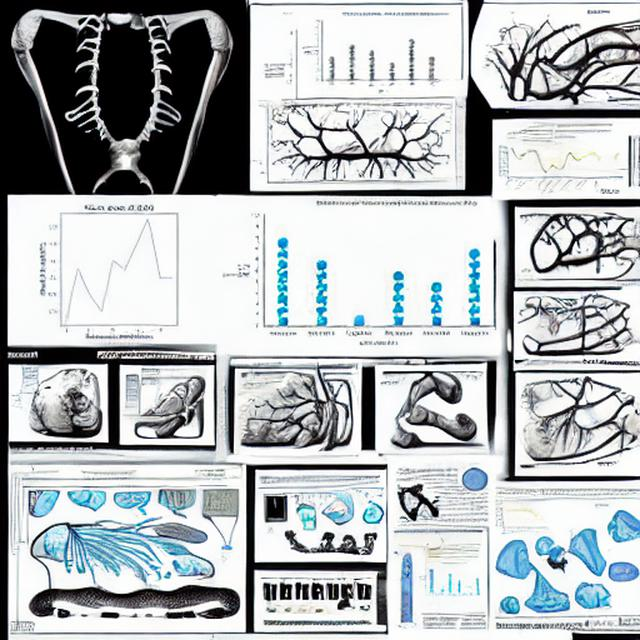Graph: (232, 197, 492, 350), (11, 196, 222, 341), (297, 9, 445, 95), (496, 135, 592, 195), (416, 560, 484, 600), (495, 500, 549, 532)
